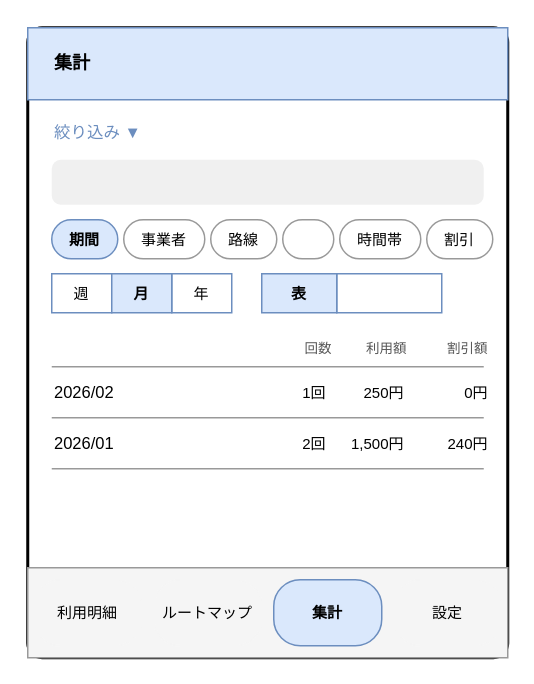
The diagram is 534 pixels wide and 684 high, and some of its shapes have lost their labels. The shapes that lost their labels are listed below. From the top down, each one's centre as x and y in pixels, then its label:
(x=267, y=181): 回数 3回 利用額 2,880円 割引額 720円
(x=307, y=238): IC
(x=388, y=292): グラフ
